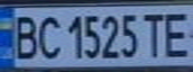1: (63, 11, 84, 60)
2: (100, 11, 121, 60)
5: (78, 11, 103, 60), (118, 10, 142, 60)
B: (6, 11, 42, 61)
C: (33, 11, 63, 61)
E: (157, 7, 193, 58)
T: (139, 10, 169, 58)
